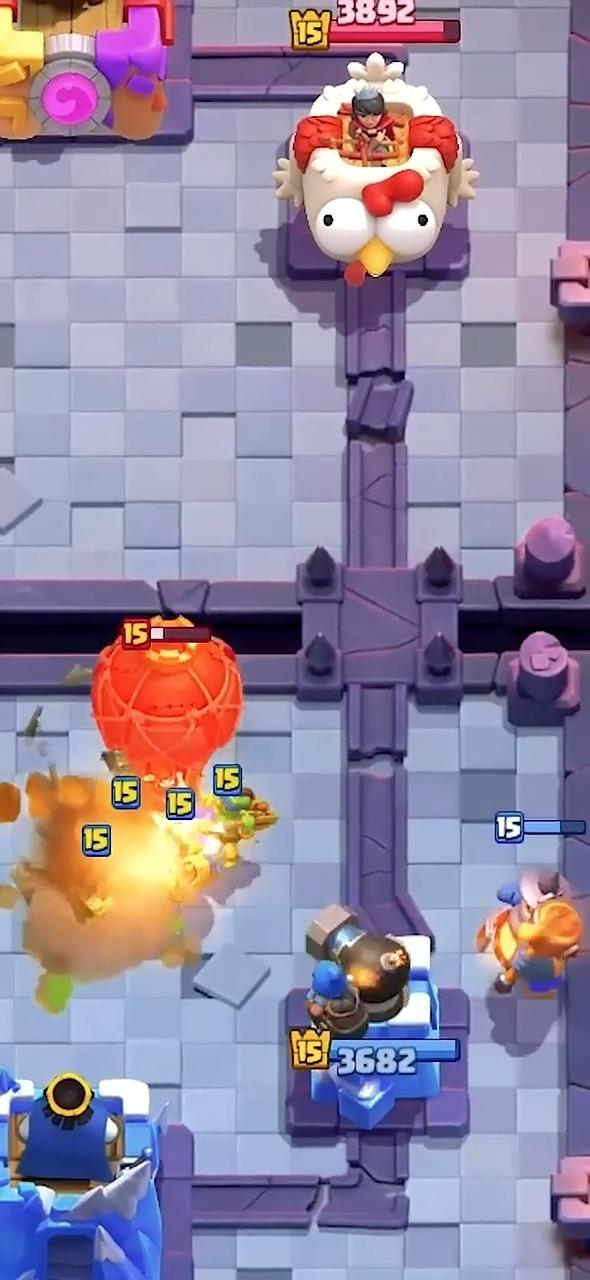baloon: (91, 616, 242, 781)
furnace: (479, 873, 582, 997)
spear goblin: (214, 788, 277, 864)
